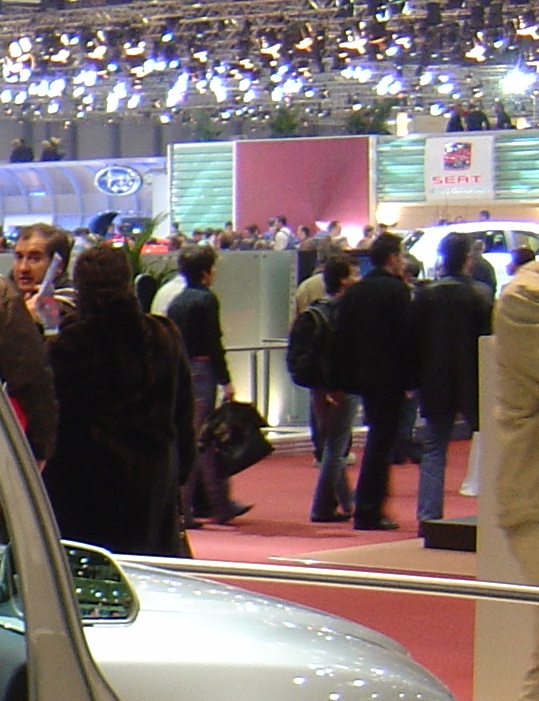person: (165, 241, 248, 528), (347, 227, 419, 532)
